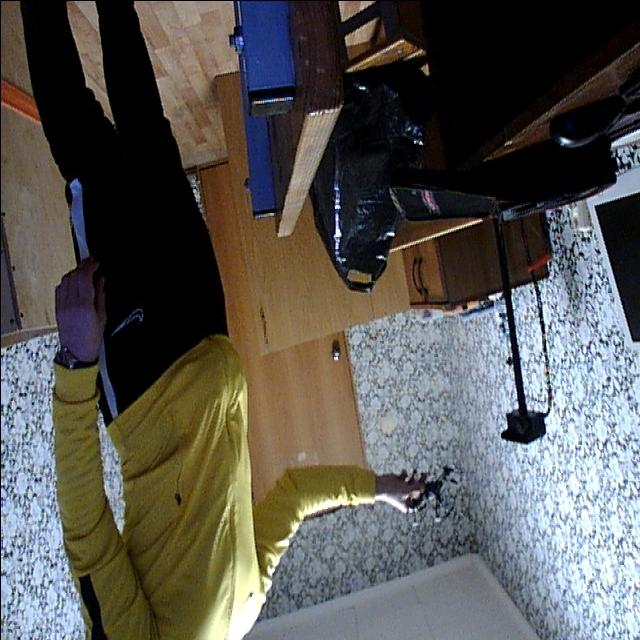drone: (398, 457, 463, 531)
